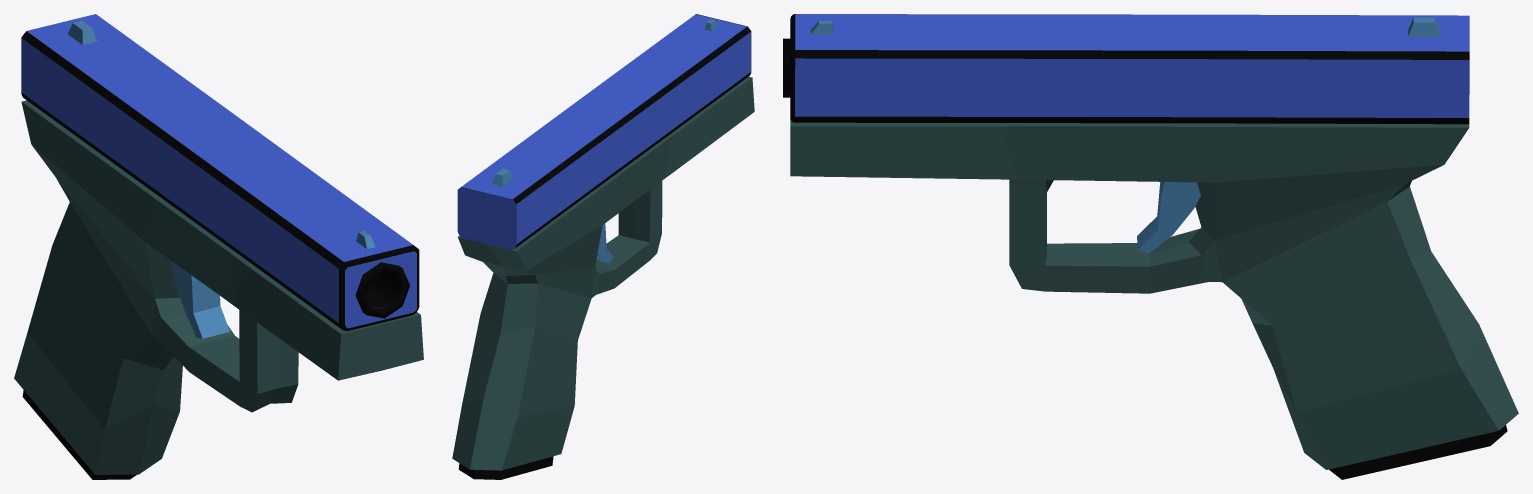
Rendered from glock.glb.
3 renders of one model, left to right at view 1: azimuth 30°, elevation 25°; view 2: azimuth 150°, elevation 25°; view 3: azimuth 270°, elevation 25°, orthographic. The views are drawn at different scales.
Visible parts, largest first — view 1: Cube, Cube.001, Cube.004, Circle, Cube.002; view 2: Cube, Cube.001, Cube.004; view 3: Cube, Cube.001, Cube.004.
Part boxes in pixels (bbox=[...]): Cube: bbox=[14, 100, 423, 479]; Cube.001: bbox=[21, 14, 419, 330]; Cube.004: bbox=[171, 261, 229, 338]; Circle: bbox=[355, 262, 409, 318]; Cube.002: bbox=[68, 20, 96, 44]; Cube: bbox=[452, 76, 754, 479]; Cube.001: bbox=[457, 14, 751, 249]; Cube.004: bbox=[596, 223, 613, 263]; Cube: bbox=[790, 119, 1518, 479]; Cube.001: bbox=[790, 14, 1469, 124]; Cube.004: bbox=[1137, 182, 1200, 253].
Size of the model in its own units: 0.5428 by 2.54 by 3.8.
